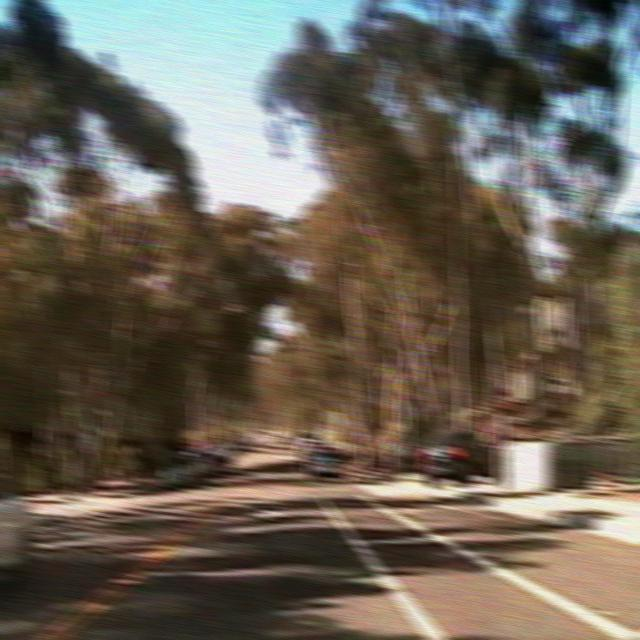stop: (490, 386, 514, 414)
